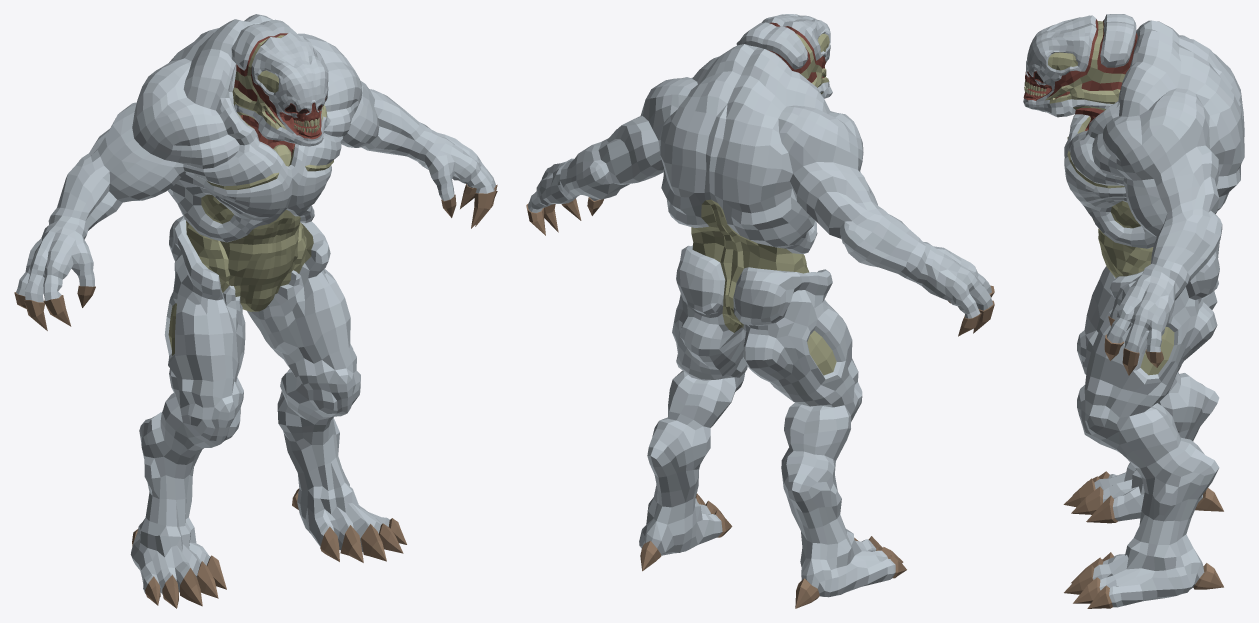
File: Hellknight_LATEST.fbx
The picture shows the model from 3 angles, left to right: view 1: azimuth 30°, elevation 25°; view 2: azimuth 150°, elevation 25°; view 3: azimuth 270°, elevation 25°; orthographic projection. The views are drawn at different scales.
Visible parts, largest first — view 1: body; view 2: body; view 3: body.
Part boxes in pixels (x1=…): body: x1=14, y1=14, x2=497, y2=608; body: x1=526, y1=14, x2=994, y2=608; body: x1=1023, y1=14, x2=1244, y2=608.
Size of the model in its own units: 253 by 277 by 104.
